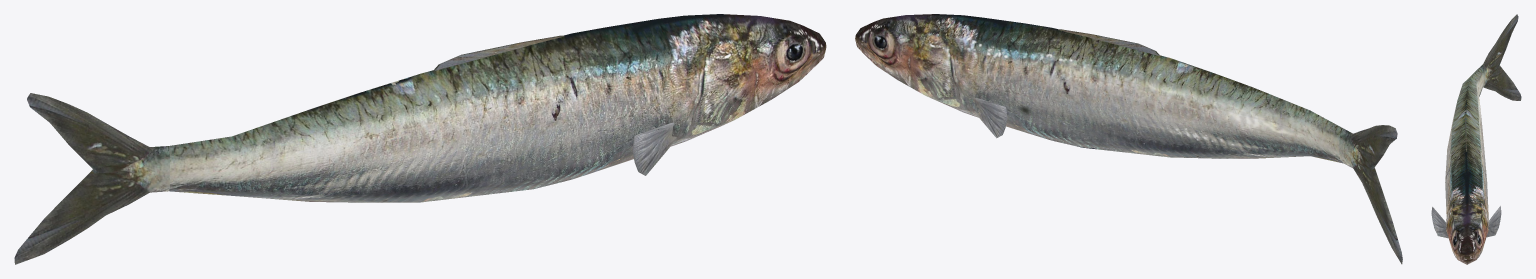
The model's file is sardina_2022.glb.
The picture shows the model from 3 angles, left to right: view 1: azimuth 30°, elevation 25°; view 2: azimuth 150°, elevation 25°; view 3: azimuth 270°, elevation 25°; orthographic projection. The views are drawn at different scales.
Visible parts, largest first — view 1: Object_2; view 2: Object_2; view 3: Object_2.
Boxes of the visible parts, bbox=[...] form: Object_2: bbox=[14, 14, 826, 264]; Object_2: bbox=[855, 14, 1402, 264]; Object_2: bbox=[1431, 14, 1521, 264].
Size of the model in its own units: 25.66 by 5.56 by 5.03.
Materials: 1 (1 with a texture image).
